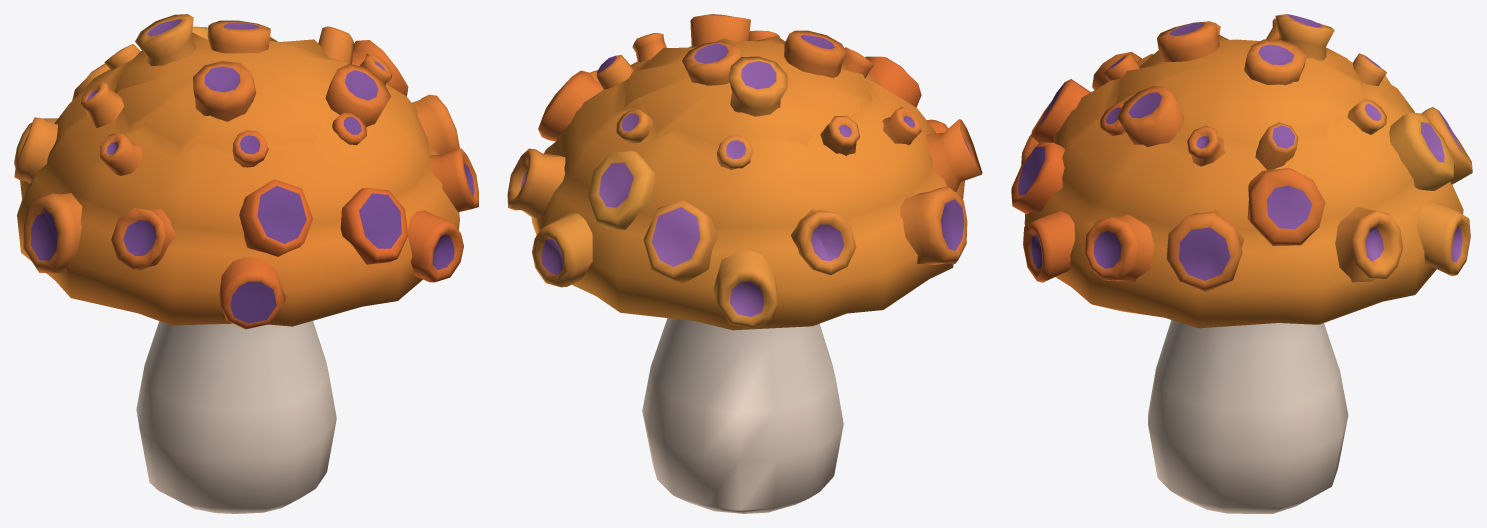
The model's file is mushroom 16.fbx.
The picture shows the model from 3 angles, left to right: view 1: azimuth 30°, elevation 25°; view 2: azimuth 150°, elevation 25°; view 3: azimuth 270°, elevation 25°; orthographic projection.
Parts seen in each view (by area): view 1: Mushroom_0001_0016; view 2: Mushroom_0001_0016; view 3: Mushroom_0001_0016.
Part boxes in pixels (left/top/right/bottom): Mushroom_0001_0016: left=14, top=14, right=478, bottom=513; Mushroom_0001_0016: left=507, top=14, right=982, bottom=513; Mushroom_0001_0016: left=1011, top=14, right=1472, bottom=513.
Bounding box in the file's own units: 24.94 × 27.17 × 24.76.
1 material, 1 textured.
